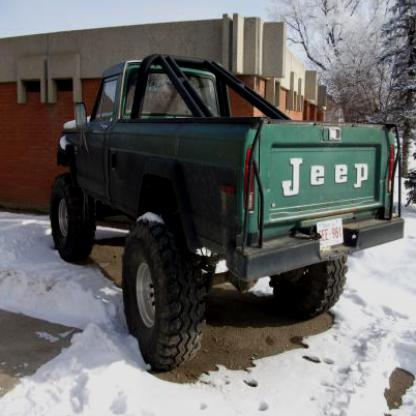truck: (41, 57, 410, 364)
